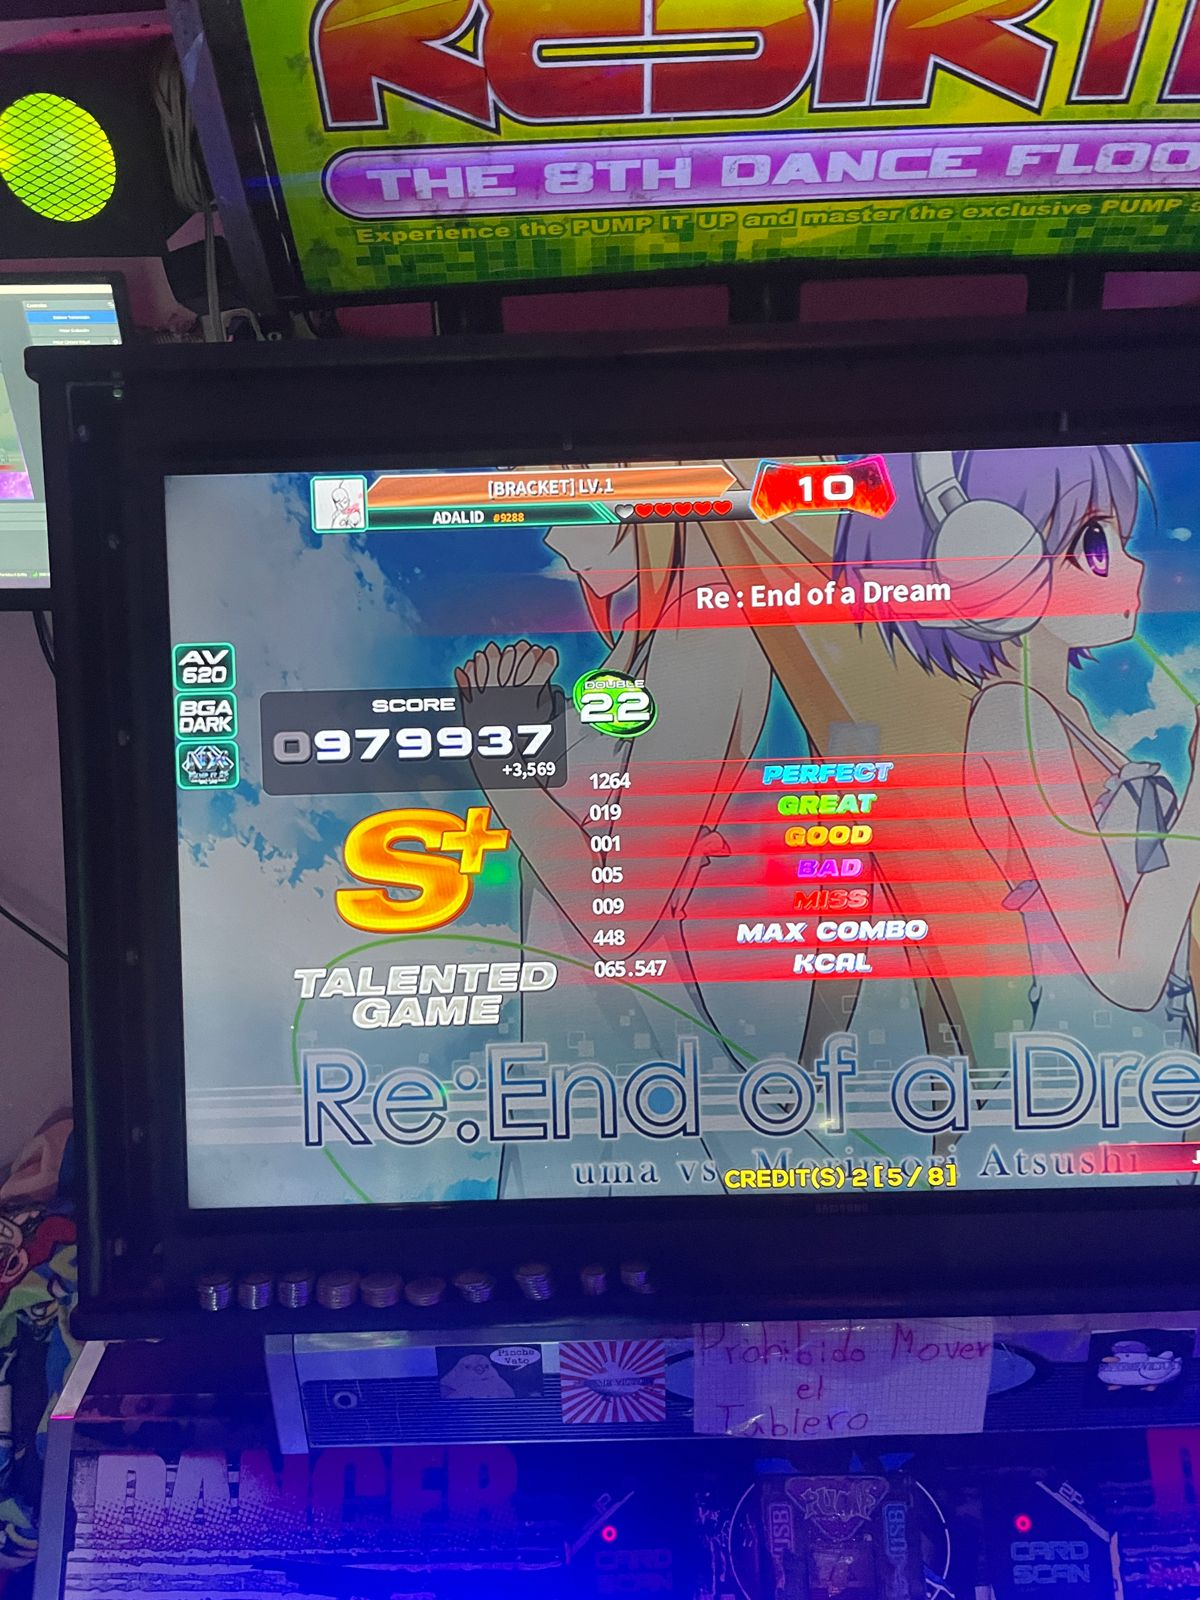difficulty: (585, 665, 671, 747)
fullscore: (93, 365, 1200, 1266)
rank: (289, 790, 529, 951)
score: (257, 689, 577, 792)
song_name: (644, 559, 1044, 622)
